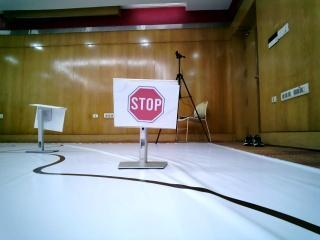stop: (112, 86, 181, 133)
